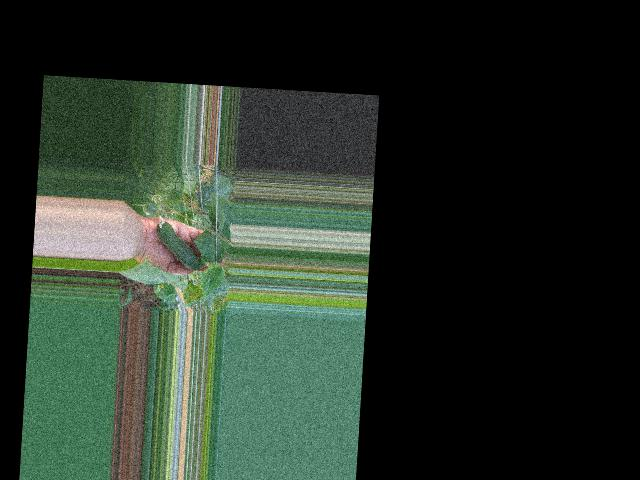cucumber: (154, 214, 204, 270)
